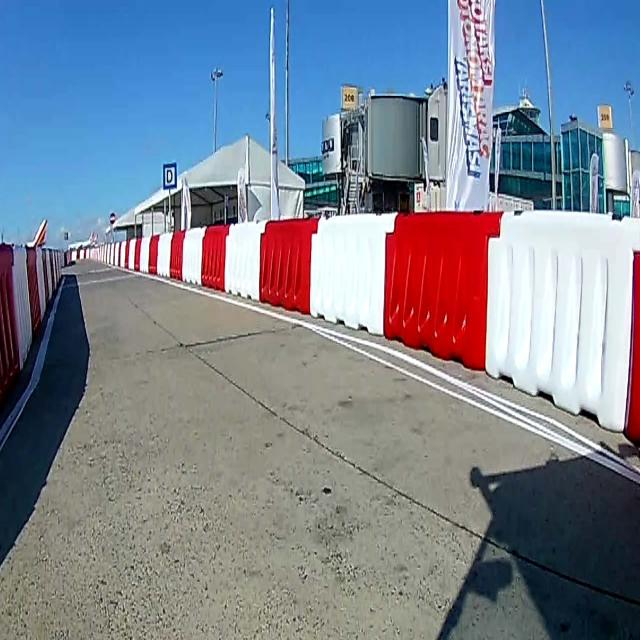durak: (162, 161, 177, 190)
girisyok: (110, 212, 116, 225)
